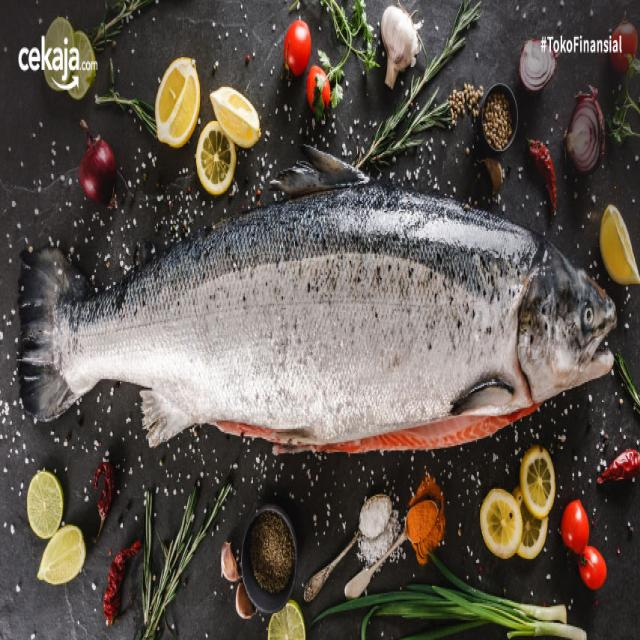salmon: (19, 174, 628, 464)
